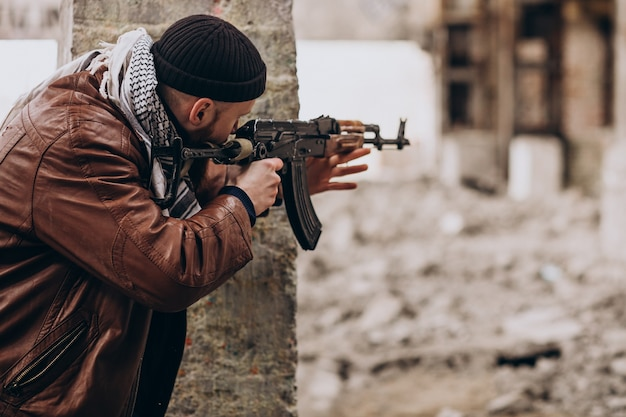gun: (172, 114, 409, 252)
